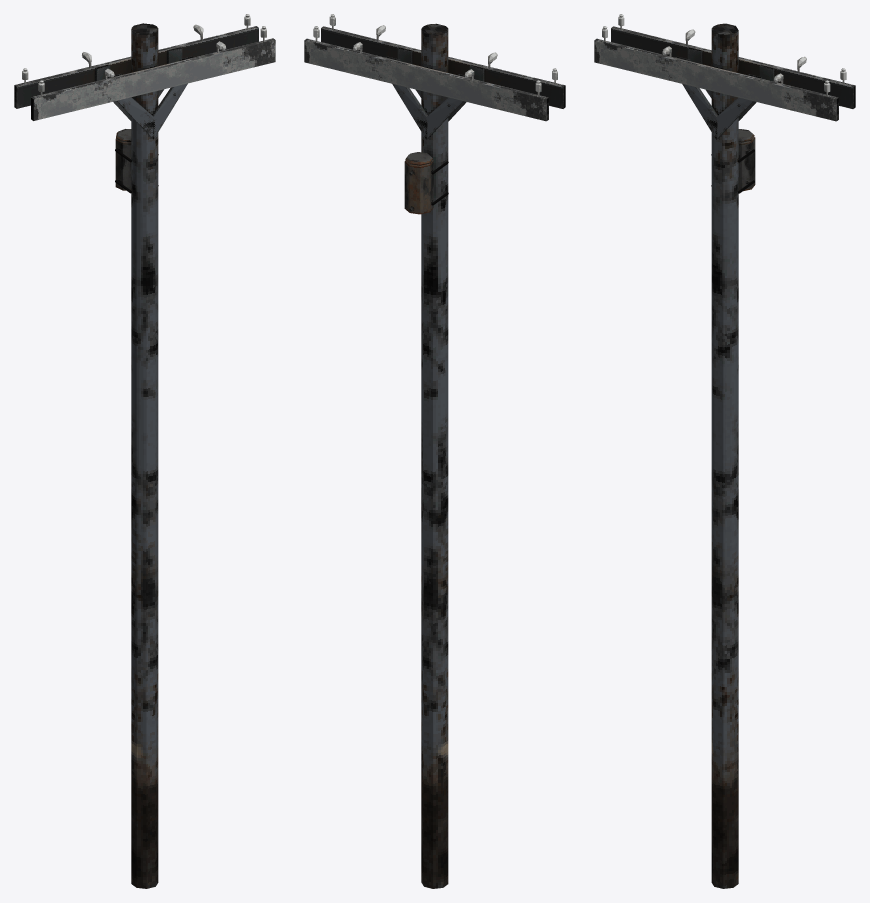
File: Telegraph_pole.glb
3 renders of one model, left to right at view 1: azimuth 30°, elevation 25°; view 2: azimuth 150°, elevation 25°; view 3: azimuth 330°, elevation 25°, orthographic.
Visible parts, largest first — view 1: Telegraph_pole; view 2: Telegraph_pole; view 3: Telegraph_pole.
Boxes of the visible parts, left/top/right/bottom form: Telegraph_pole: left=14, top=14, right=275, bottom=888; Telegraph_pole: left=304, top=14, right=565, bottom=888; Telegraph_pole: left=594, top=14, right=855, bottom=888.
Size of the model in its own units: 5.18 by 17.46 by 1.46.
1 material, 1 textured.
